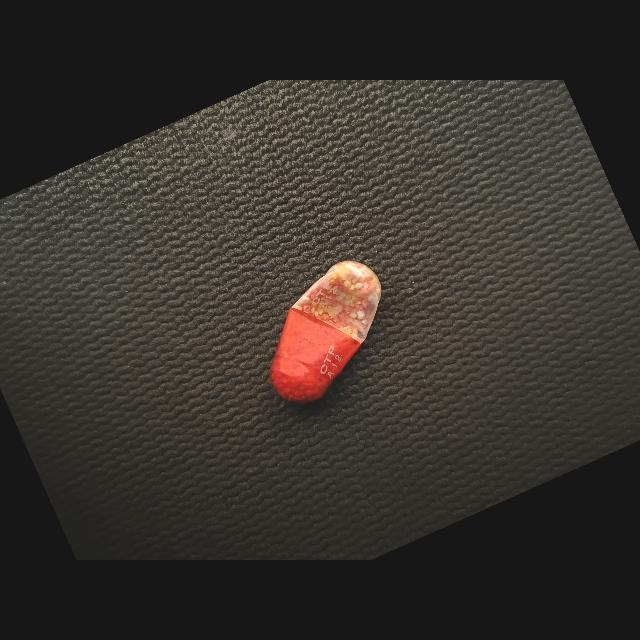Defective Capsule: (277, 261, 382, 378)
